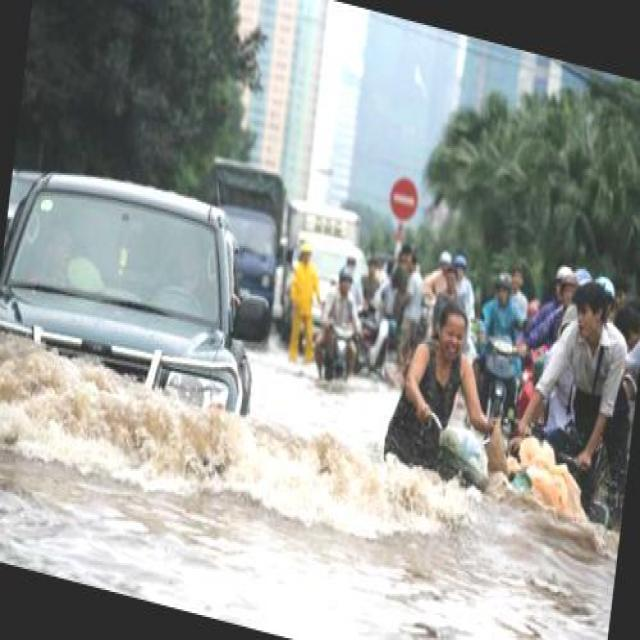flood: (0, 323, 626, 638)
